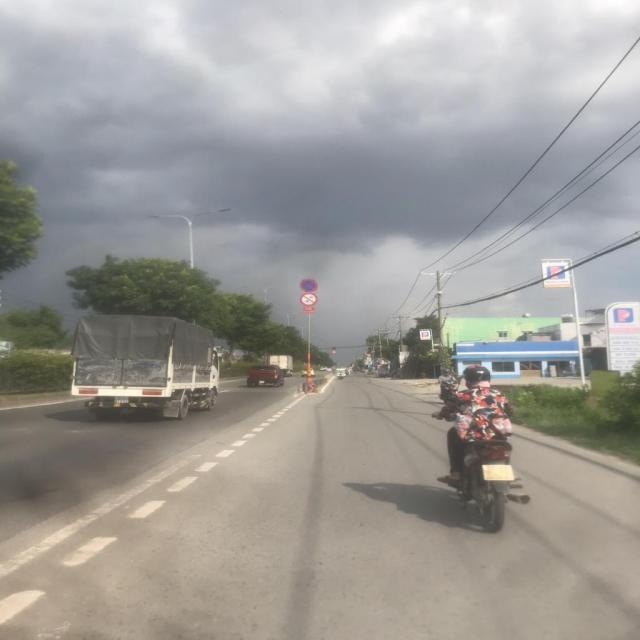cam_dung_xe_va_do_xe: (300, 277, 318, 292), (332, 347, 336, 351)
cam_o_to_tai_va_xe_khach: (367, 354, 371, 357)
cam_xe_2_banh_va_xe_3_banh_co_dong_co: (299, 292, 318, 307), (332, 350, 336, 354)
khac: (367, 360, 372, 364), (367, 357, 371, 361)
